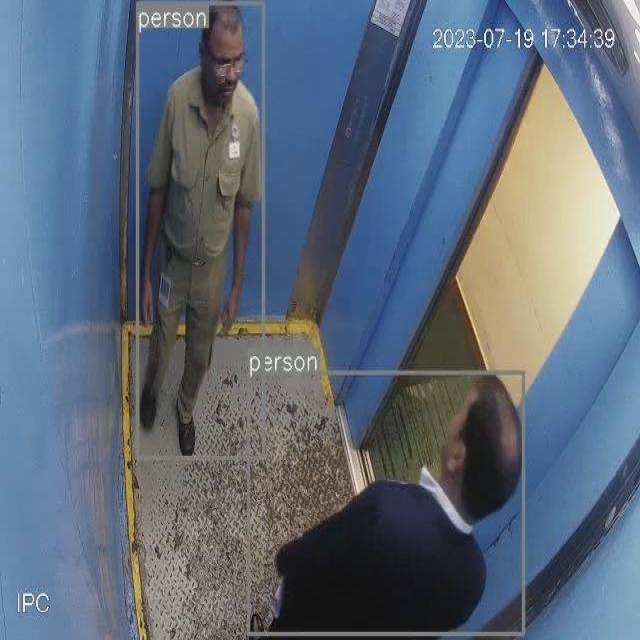person: (250, 371, 523, 636), (139, 3, 265, 457)
